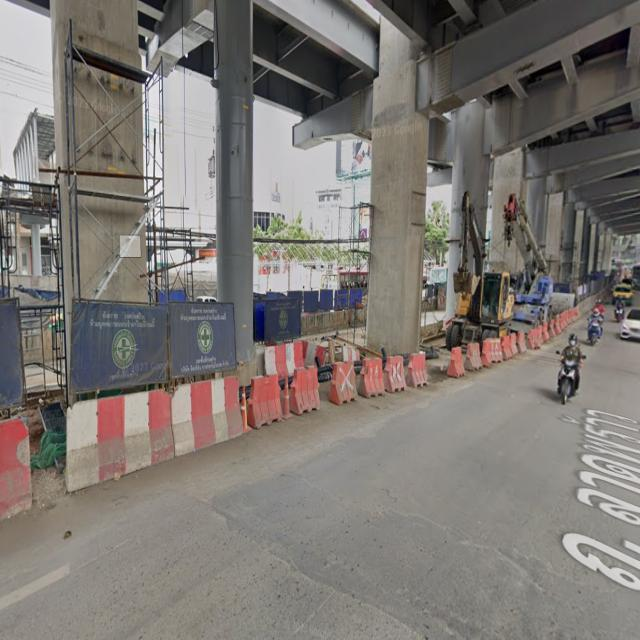fallen_object: (49, 376, 242, 484), (0, 397, 46, 526), (332, 346, 424, 401), (233, 377, 330, 420), (443, 336, 521, 372), (263, 330, 321, 376), (510, 307, 557, 347)
